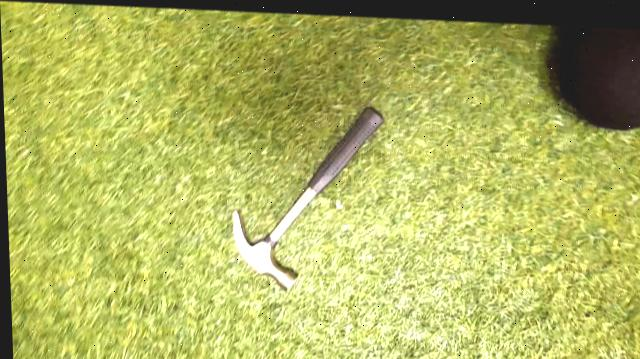hammer: (221, 91, 410, 299)
